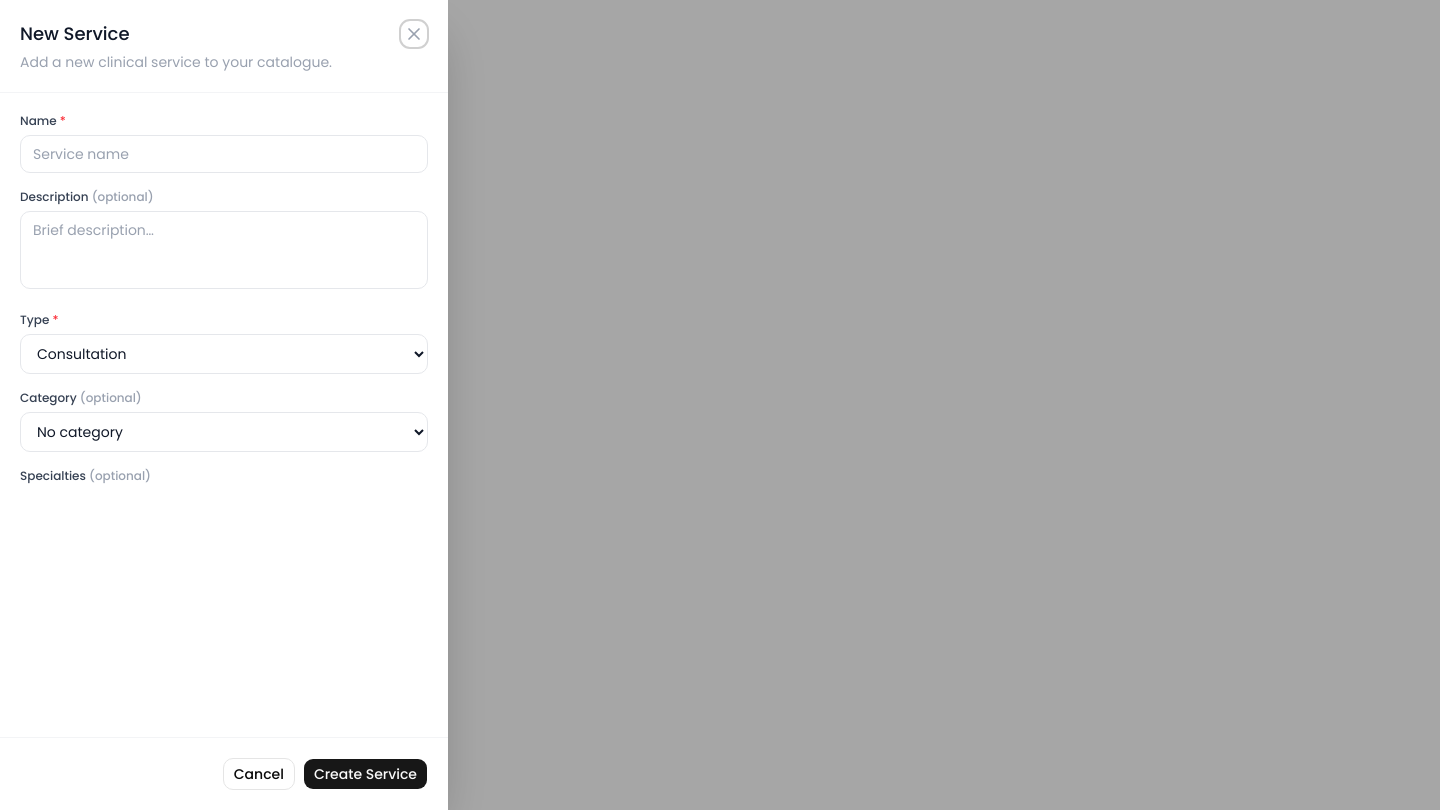
Test: ServiceDrawer › blocks submit and shows an error when the name is empty
Click the button "Create Service" at {"x": 365, "y": 774}, box [303,758,428,790]
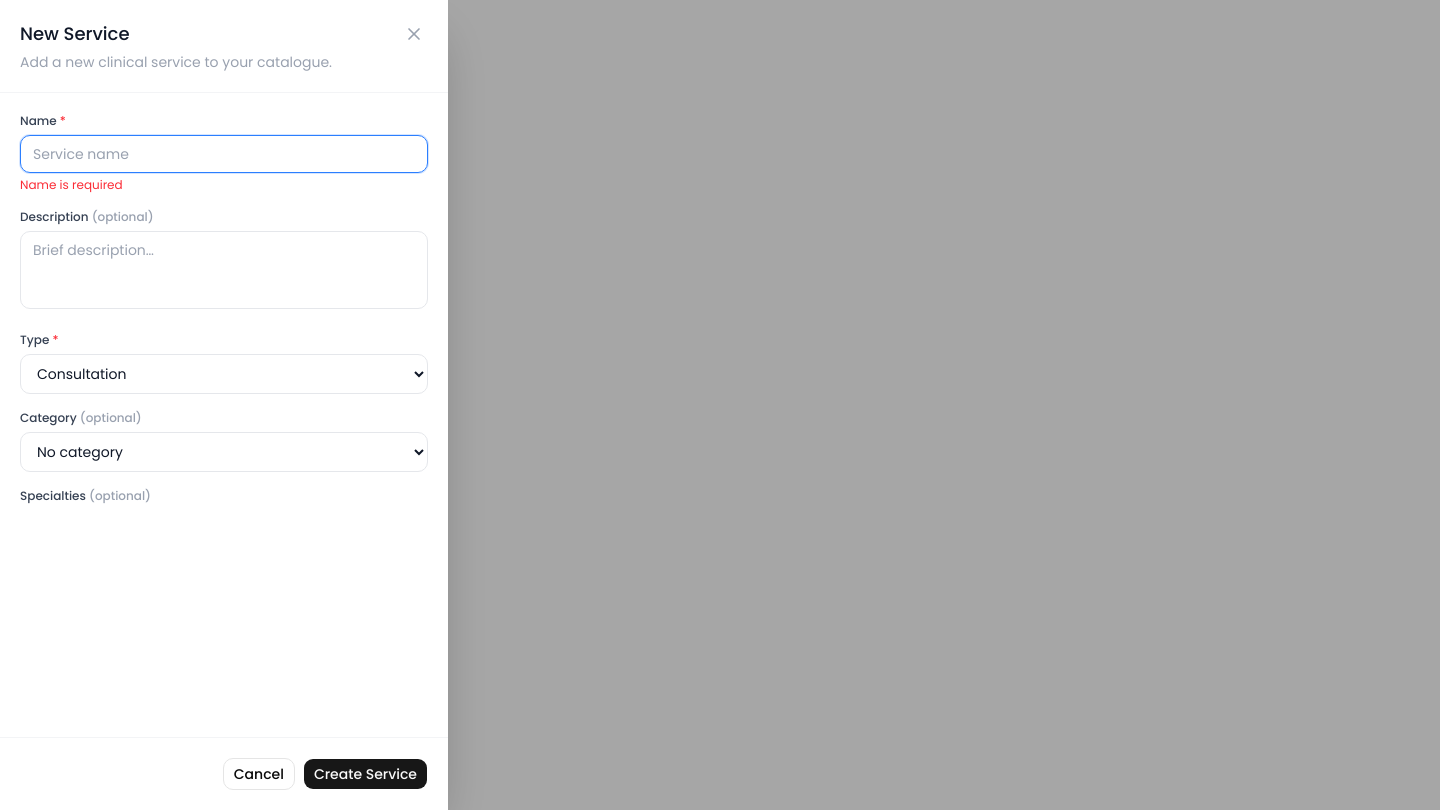
Result: the text "Name is required" is shown at [20,176,123,193]
